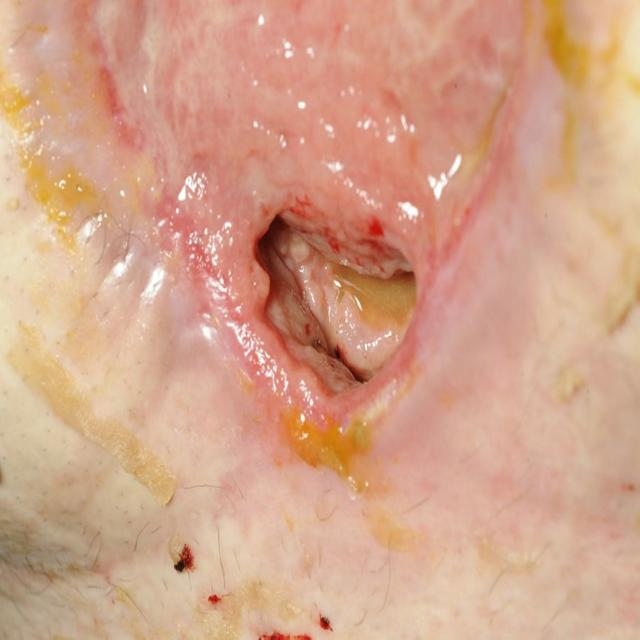wound: (2, 1, 637, 638), (254, 198, 418, 398)
